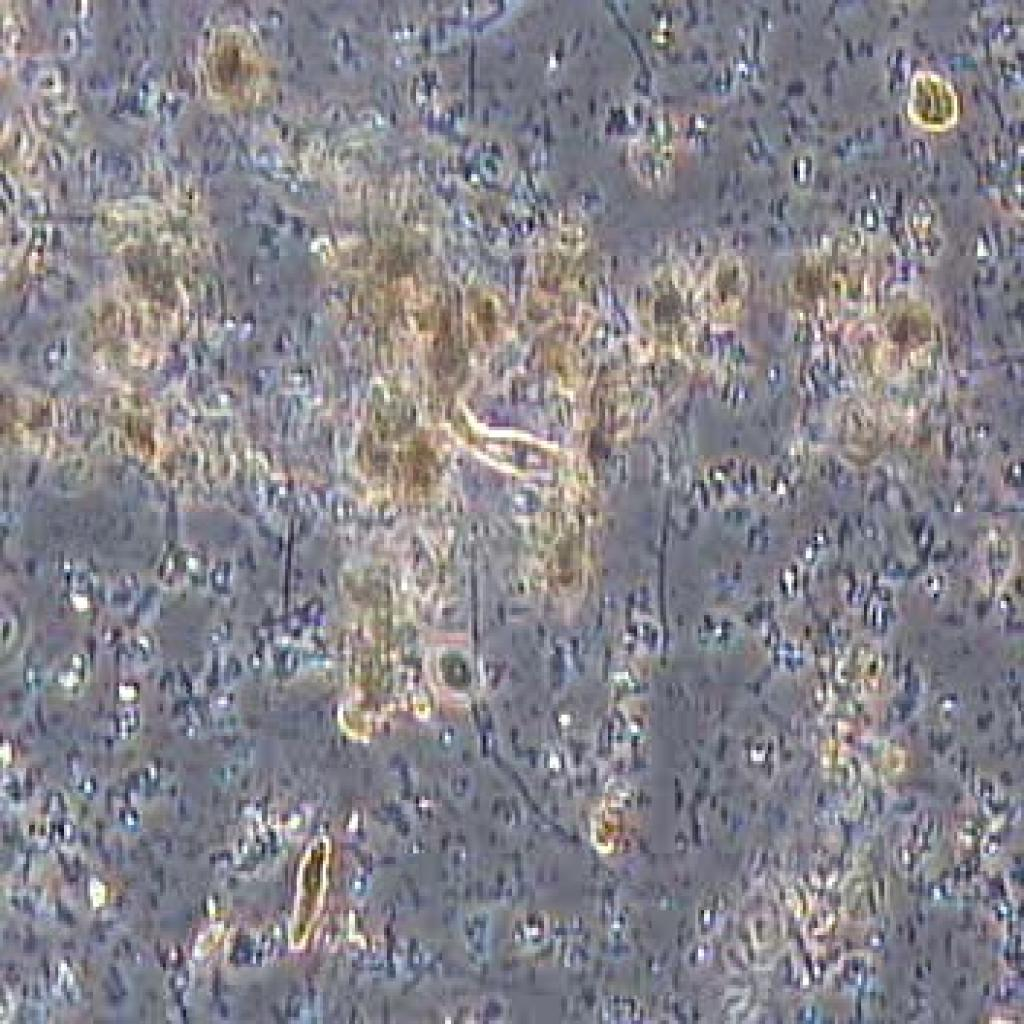Chaetonotus: (403, 363, 615, 512)
